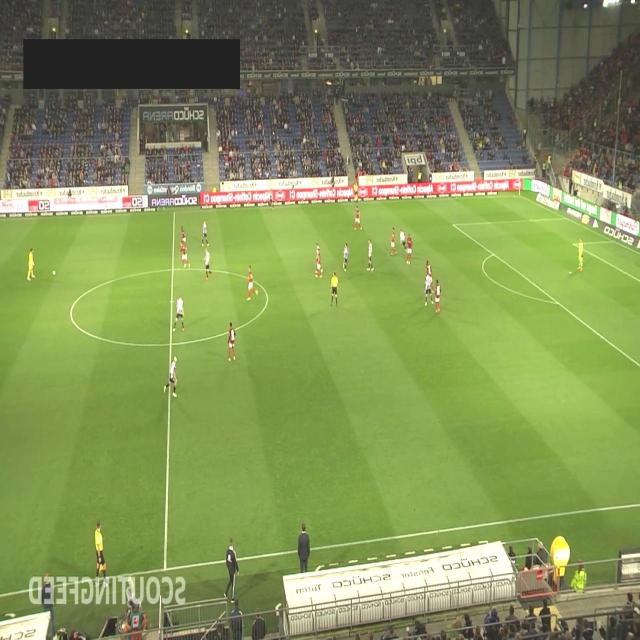ball: (52, 270, 56, 276)
player: (164, 356, 178, 398), (172, 294, 185, 332), (246, 264, 258, 300), (227, 322, 236, 362), (424, 272, 434, 307), (425, 259, 434, 294), (203, 247, 212, 280), (353, 204, 363, 232), (576, 237, 584, 271), (366, 238, 374, 271), (27, 247, 35, 280), (180, 242, 190, 268), (315, 242, 323, 273), (399, 229, 407, 255), (435, 279, 441, 313), (389, 227, 396, 256), (315, 254, 323, 278), (406, 233, 412, 265), (343, 242, 349, 272), (202, 218, 208, 246), (180, 226, 186, 242)
referee: (94, 520, 107, 586), (329, 271, 338, 307), (353, 179, 359, 204)
